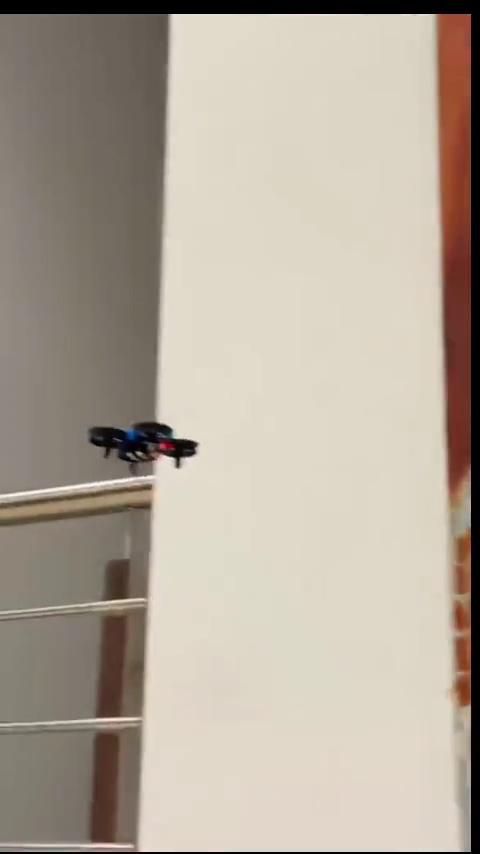drone: (88, 420, 195, 478)
